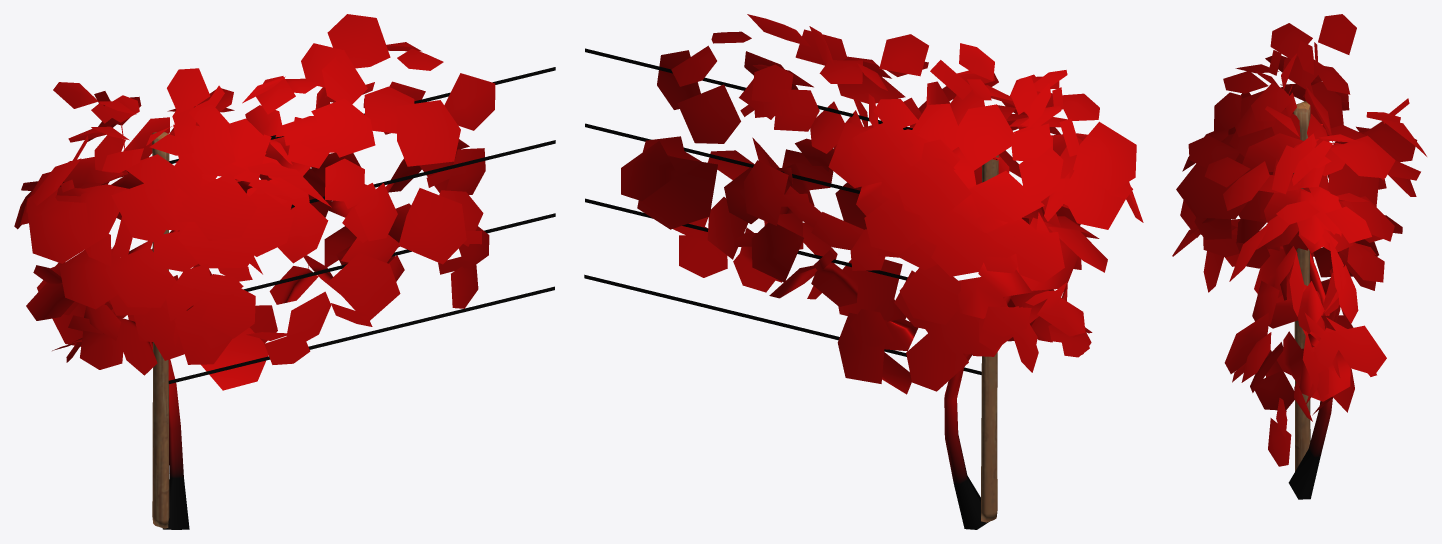
The model's file is SM_Farm_GrapevineGrown_02.fbx.
The picture shows the model from 3 angles, left to right: view 1: azimuth 30°, elevation 25°; view 2: azimuth 150°, elevation 25°; view 3: azimuth 270°, elevation 25°; orthographic projection. The views are drawn at different scales.
Parts seen in each view (by area): view 1: SM_Farm_GrapevineGrown_02_LOD0; view 2: SM_Farm_GrapevineGrown_02_LOD0; view 3: SM_Farm_GrapevineGrown_02_LOD0.
Part boxes in pixels (bbox=[...]): SM_Farm_GrapevineGrown_02_LOD0: bbox=[14, 14, 555, 529]; SM_Farm_GrapevineGrown_02_LOD0: bbox=[584, 14, 1143, 529]; SM_Farm_GrapevineGrown_02_LOD0: bbox=[1172, 14, 1426, 499].
Size of the model in its own units: 203 by 169 by 88.44.
